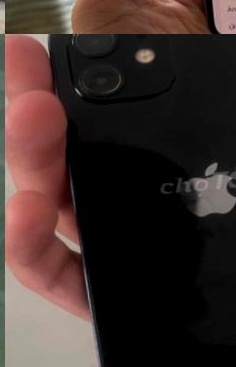scratch: (118, 349, 191, 367)
